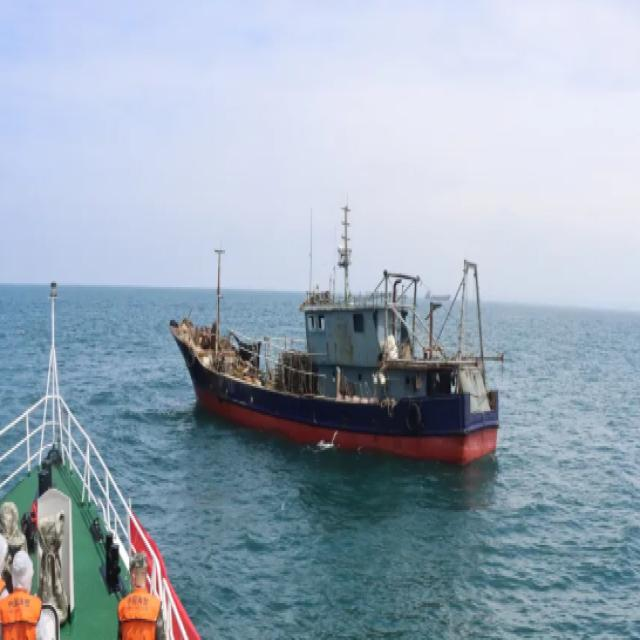fishing boat: (167, 208, 504, 468)
